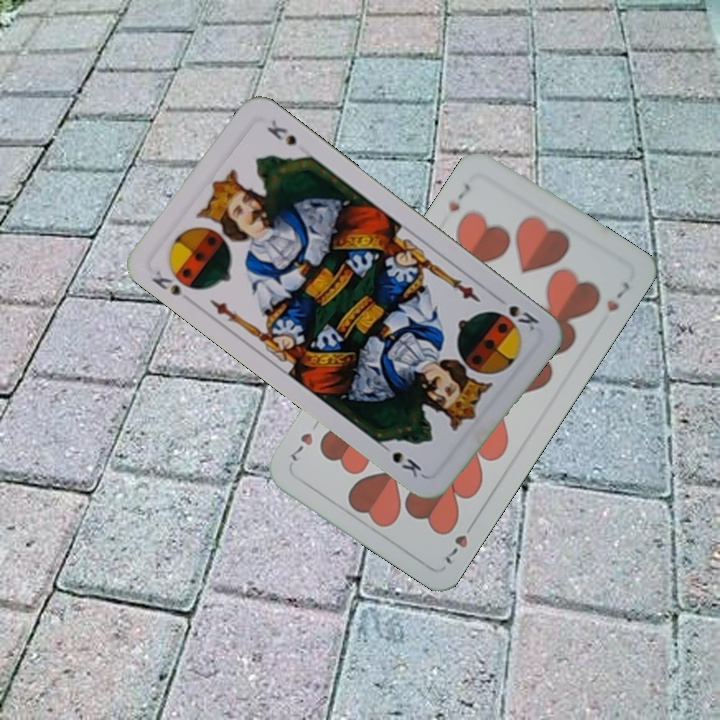H7: (439, 516, 479, 568), (444, 179, 474, 215)
SK: (147, 266, 197, 306), (504, 301, 542, 335)
